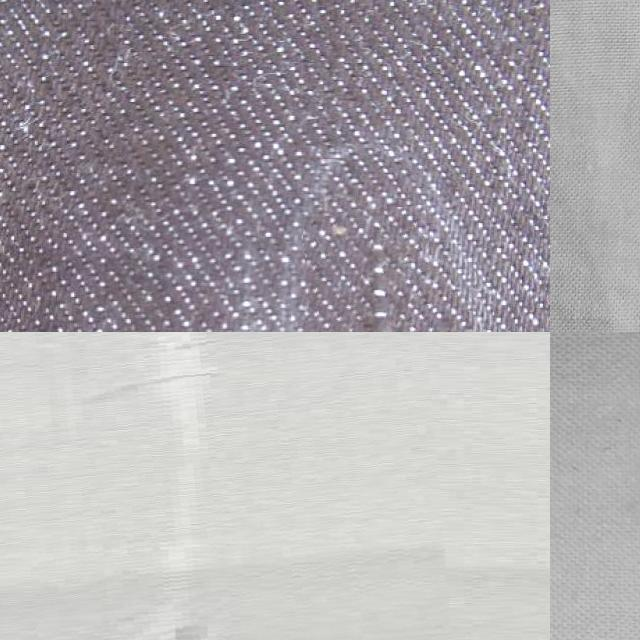stains: (0, 332, 444, 640), (307, 206, 444, 332)
